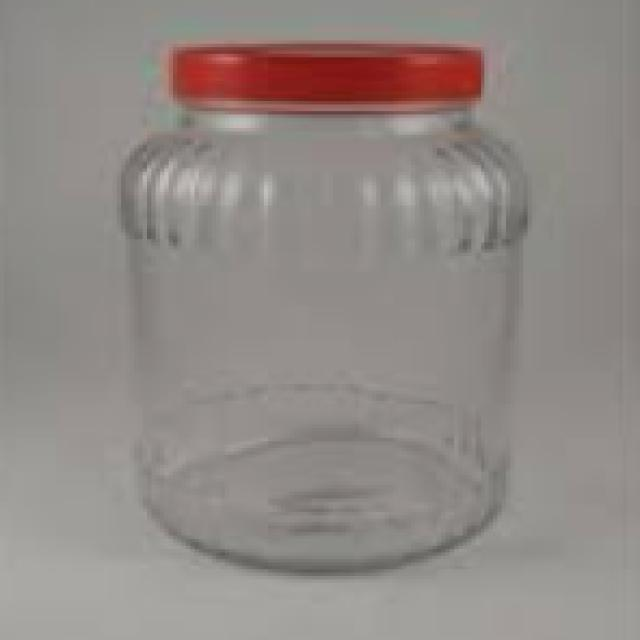ToplesKaca: (112, 37, 532, 573)
